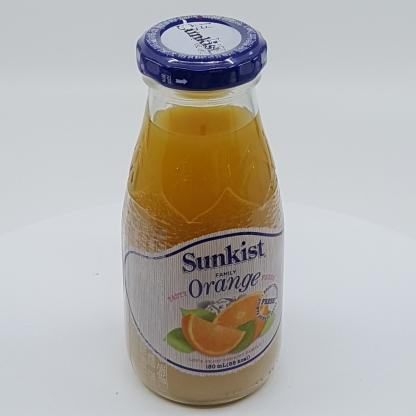----------180ML: (121, 15, 284, 405)
